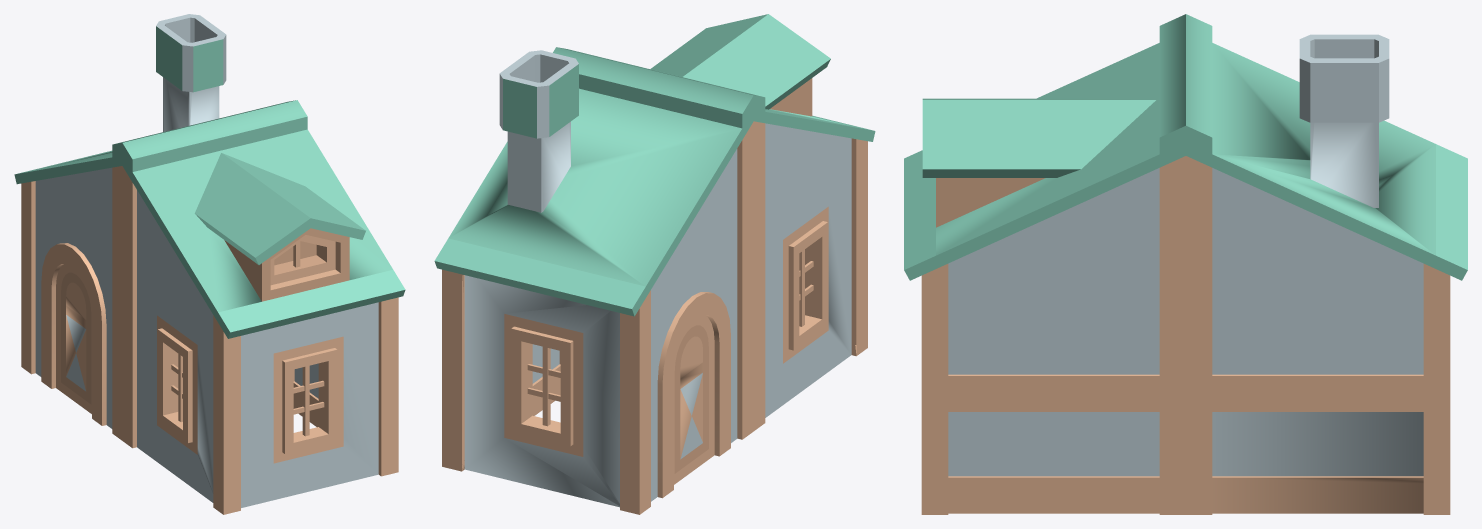
The model's file is BasicHouse8.fbx.
The picture shows the model from 3 angles, left to right: view 1: azimuth 30°, elevation 25°; view 2: azimuth 150°, elevation 25°; view 3: azimuth 270°, elevation 25°; orthographic projection. The views are drawn at different scales.
Visible parts, largest first — view 1: roofWindow.002; view 2: roofWindow.002; view 3: roofWindow.002.
Boxes of the visible parts, left/top/right/bottom form: roofWindow.002: left=14, top=14, right=405, bottom=514; roofWindow.002: left=434, top=14, right=875, bottom=514; roofWindow.002: left=904, top=14, right=1467, bottom=514.
Bounding box in the file's own units: 100 × 183 × 213.
